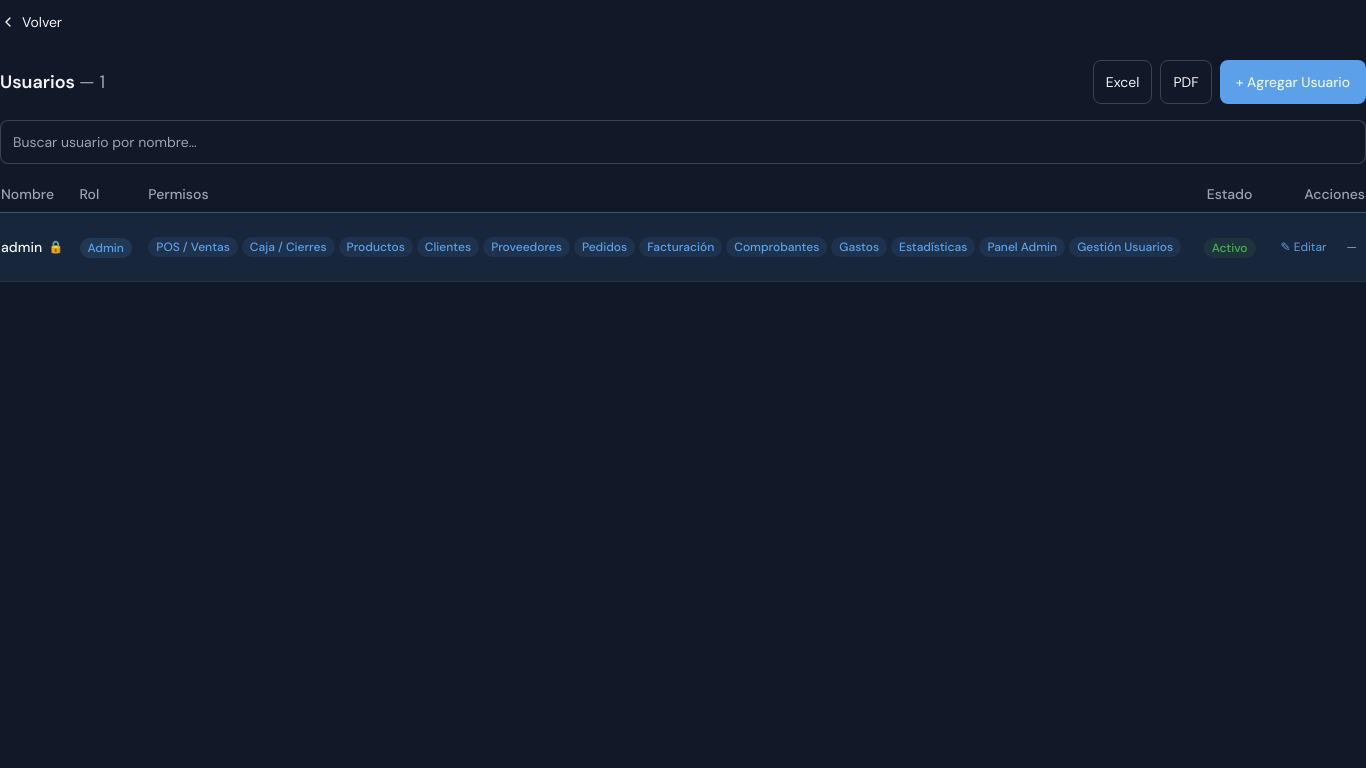
Test: UserManagementPage › opens add user modal when clicking add button
Click the button "+ Agregar Usuario" at {"x": 1293, "y": 82}, box [1220,60,1365,104]
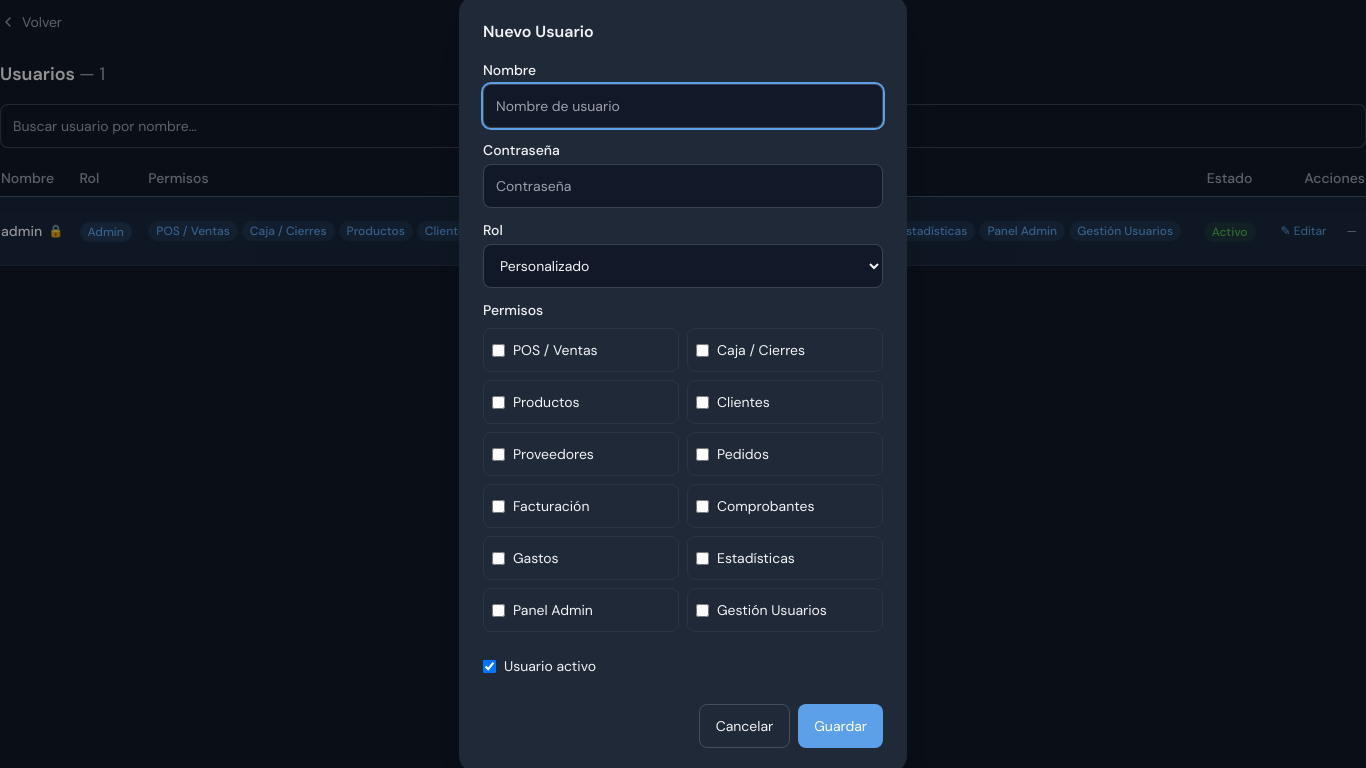
expect the heading "Nuevo Usuario" is shown: met, box [483,21,594,42]
expect the field with placeholder "Nombre de usuario" is shown: met, box [483,84,883,128]
expect the password field with placeholder "Contraseña" is shown: met, box [483,164,883,208]
